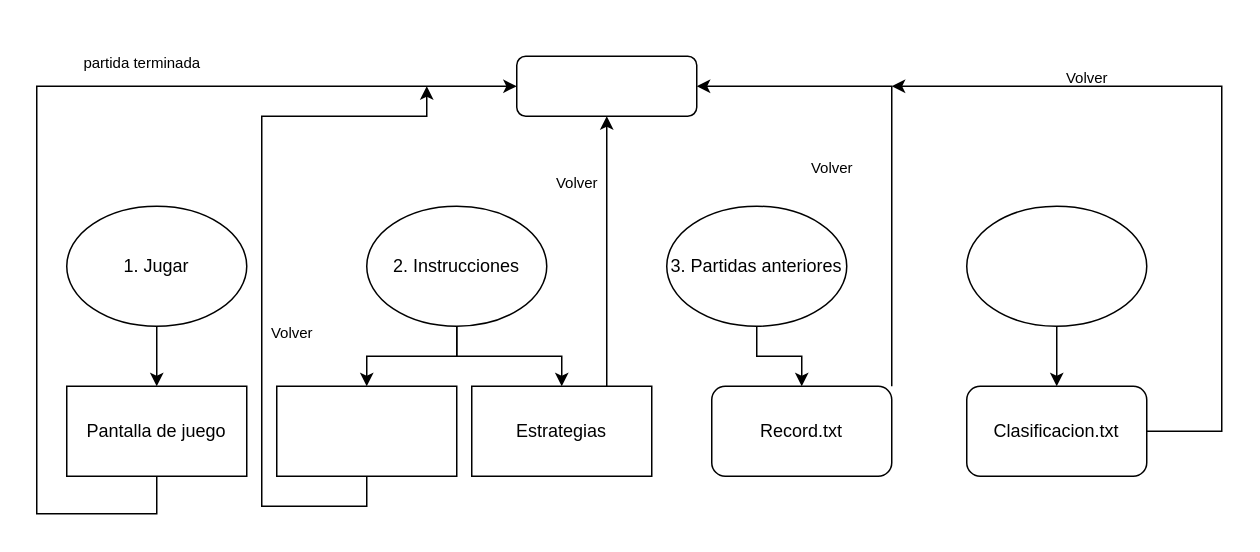
This 1260x552 diagram has some shape labels left out. The centre of each missing label's shape, as x and y in pixels:
4. Tabla de mejores jugadores: point 1056,265
Conceptos básicos: point 366,430
Menu: point 606,85
